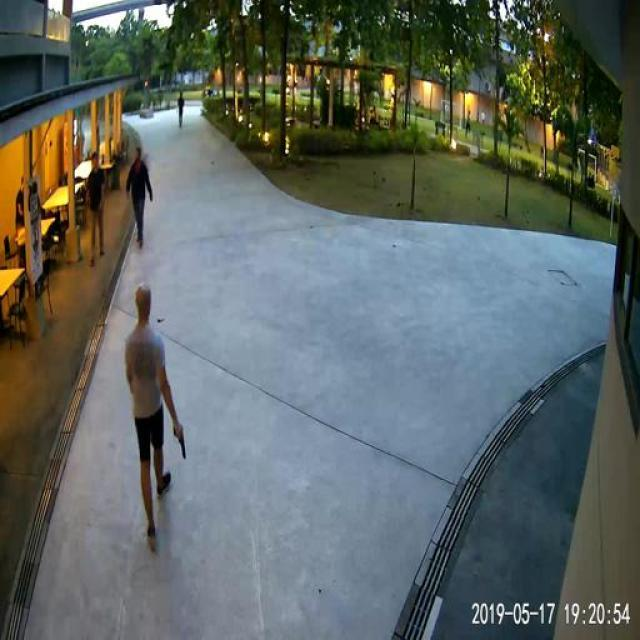Gun: (168, 423, 192, 465)
